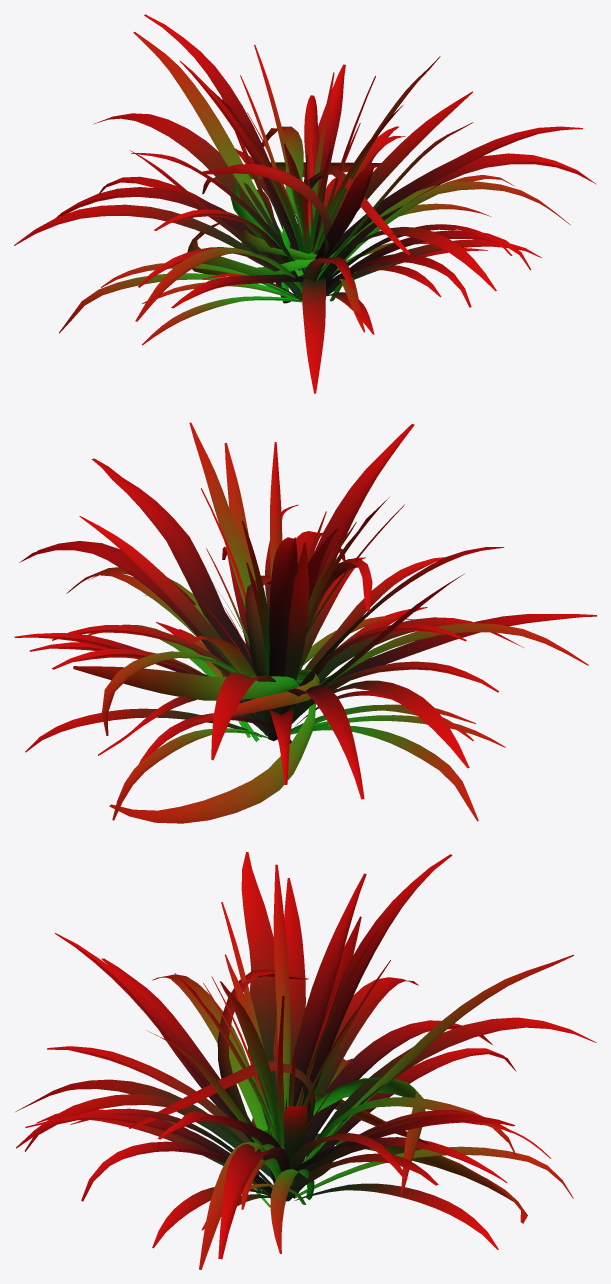
File: PlantSucculent02.fbx
3 renders of one model, top to bottom at view 1: azimuth 30°, elevation 25°; view 2: azimuth 150°, elevation 25°; view 3: azimuth 270°, elevation 25°, orthographic. The views are drawn at different scales.
Visible parts, largest first — view 1: _4b01_Var2_LOD0; view 2: _4b01_Var2_LOD0; view 3: _4b01_Var2_LOD0.
Boxes of the visible parts, <box> form: _4b01_Var2_LOD0: <box>14,14,596,393</box>; _4b01_Var2_LOD0: <box>14,422,596,823</box>; _4b01_Var2_LOD0: <box>15,852,596,1269</box>.
Bounding box in the file's own units: 52.45 × 26.37 × 46.48.
